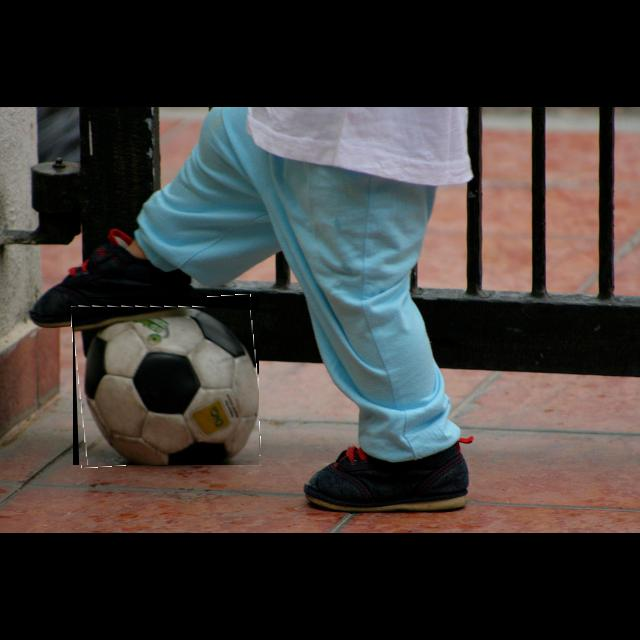Football: (73, 297, 259, 465)
